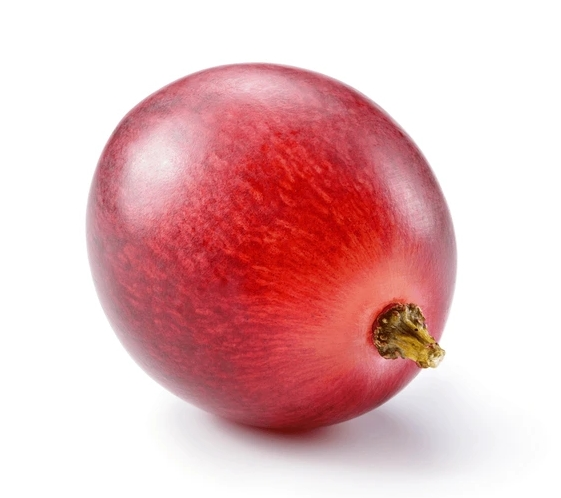grapes: (57, 36, 494, 460)
